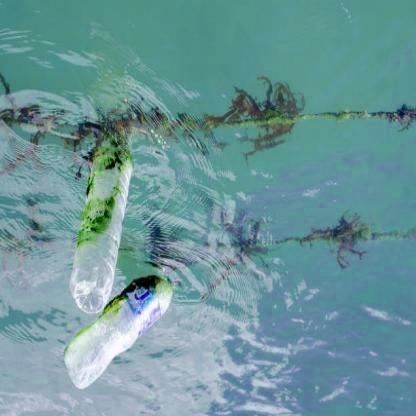Plastic: (59, 274, 177, 394), (69, 134, 134, 318)
